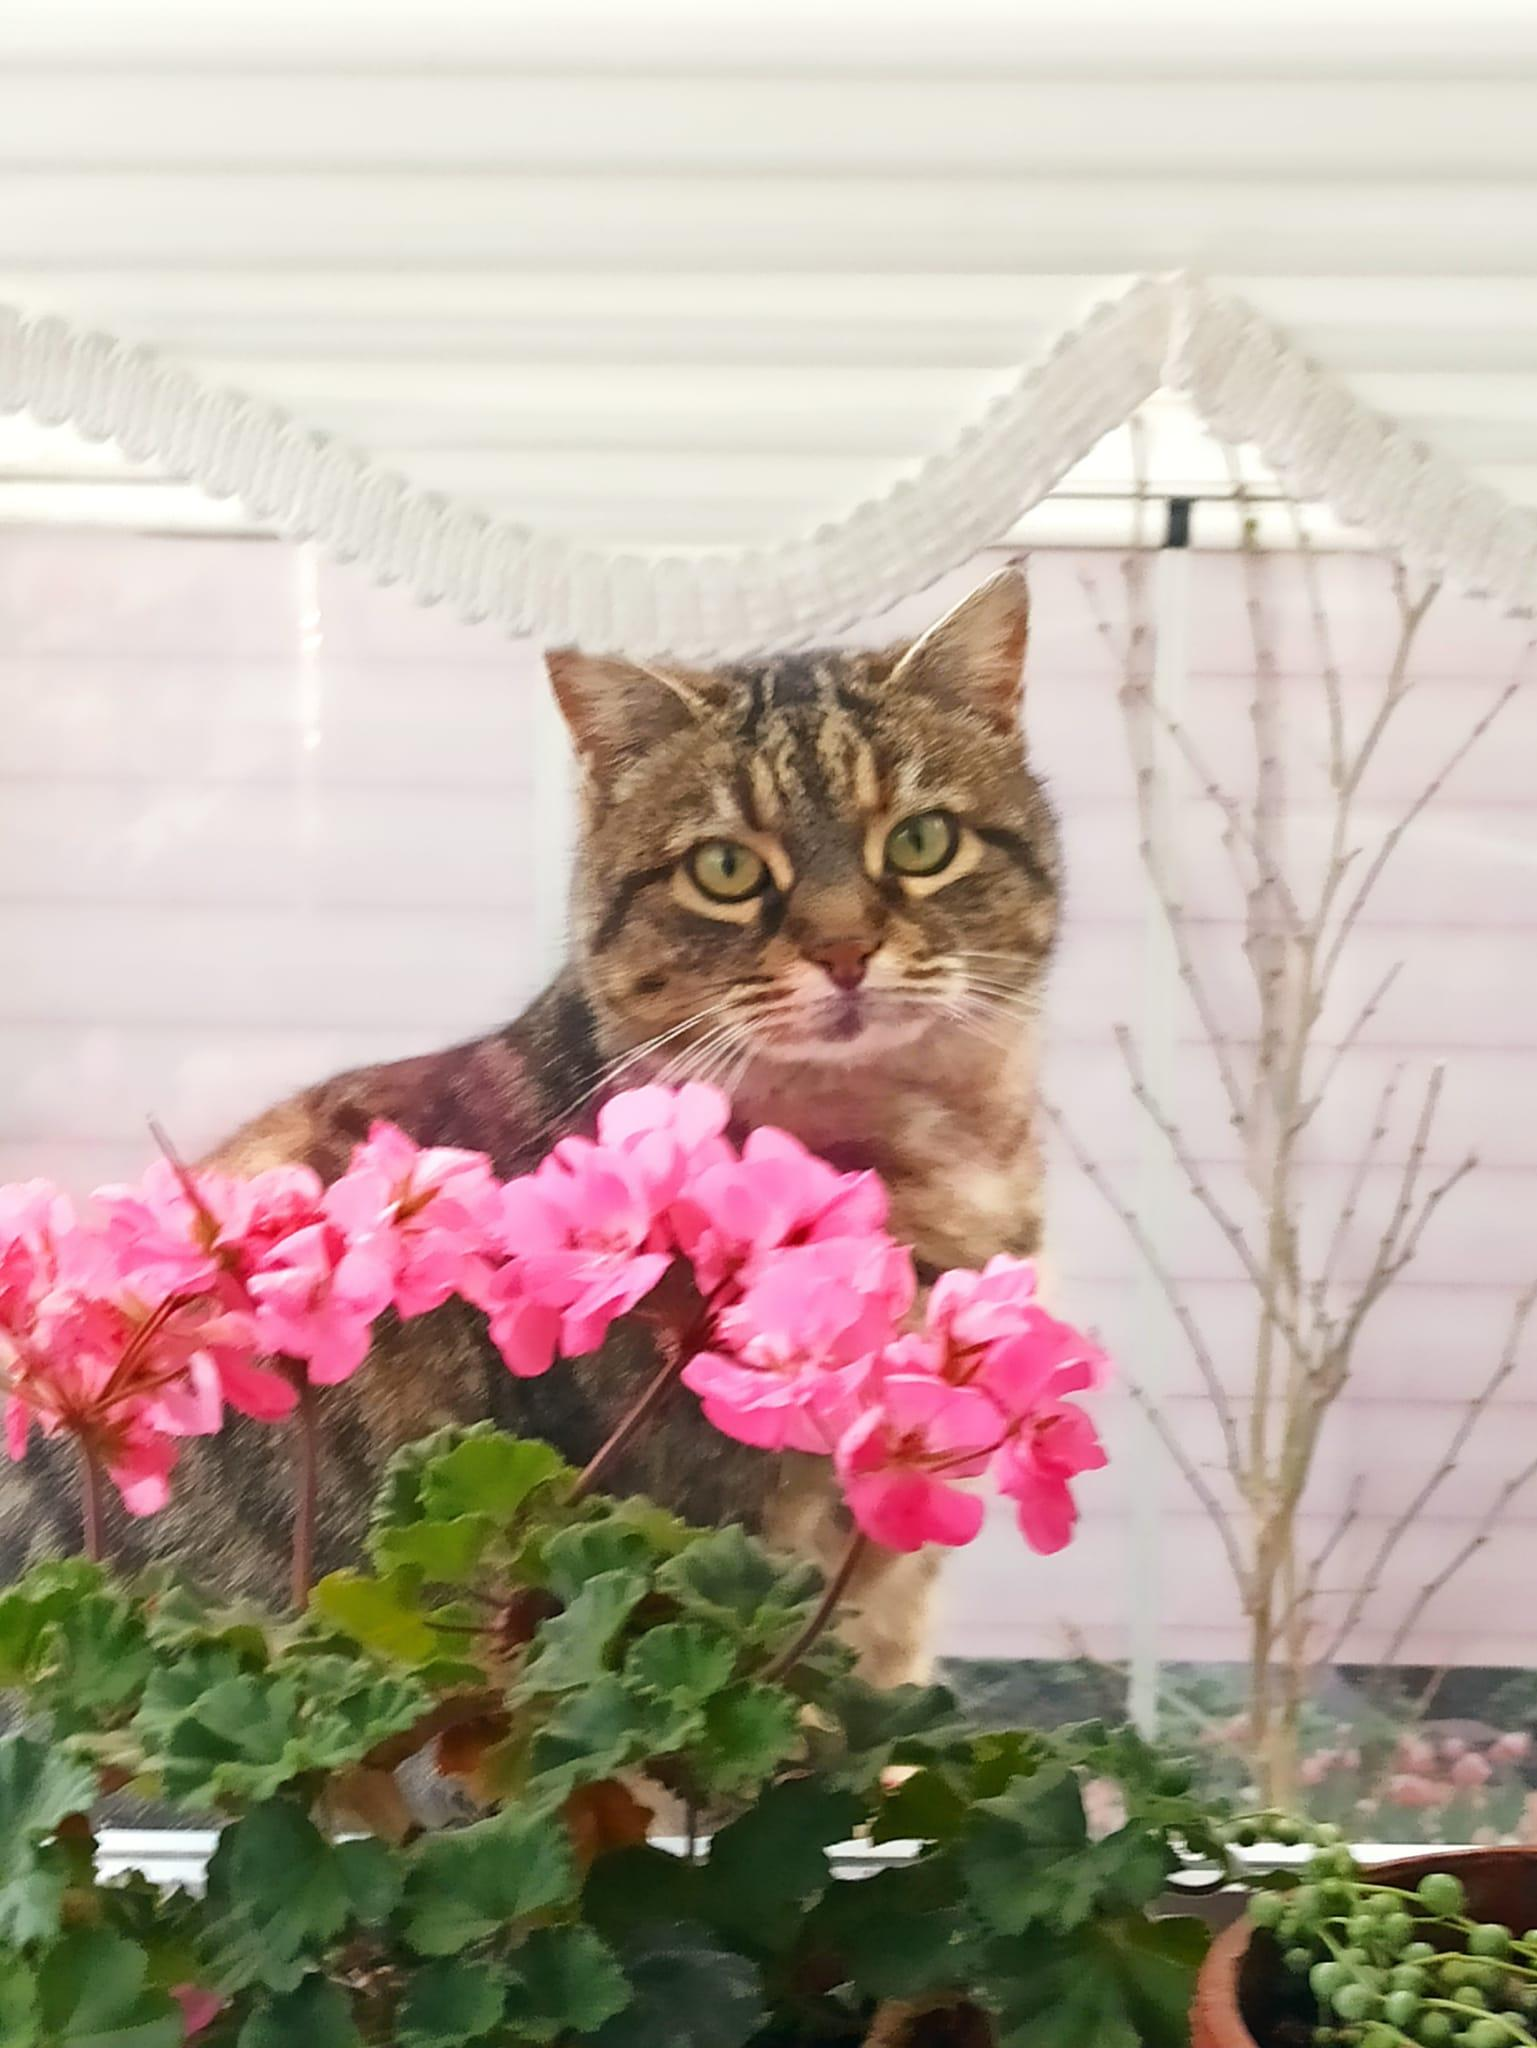kedo: (547, 581, 1057, 1067)
